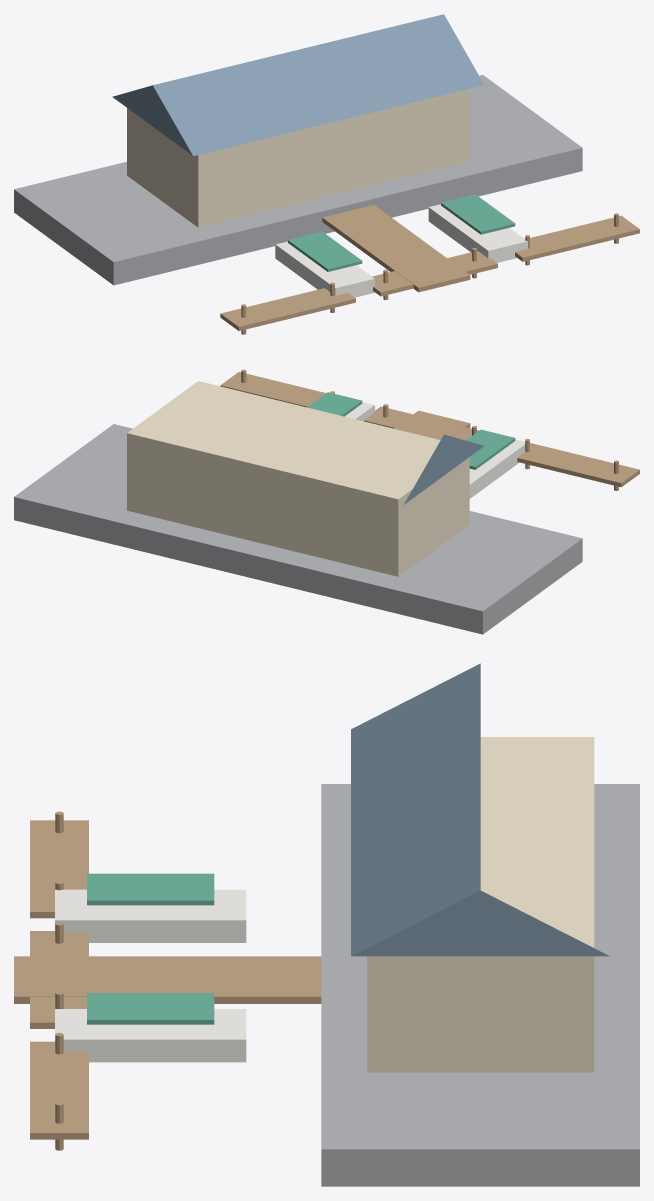
The model's file is lm_117_ben_du_thuyen_va_cau_lac_bo_kayak_ho_tuyen_lam_marina_club.glb.
3 renders of one model, top to bottom at view 1: azimuth 30°, elevation 25°; view 2: azimuth 150°, elevation 25°; view 3: azimuth 270°, elevation 25°, orthographic. The views are drawn at different scales.
Visible parts, largest first — view 1: lm_117_ben_du_thuyen_va_cau_lac_bo_kayak_ho_tuyen_lam_marina; view 2: lm_117_ben_du_thuyen_va_cau_lac_bo_kayak_ho_tuyen_lam_marina; view 3: lm_117_ben_du_thuyen_va_cau_lac_bo_kayak_ho_tuyen_lam_marina.
Boxes of the visible parts, x1=… form: lm_117_ben_du_thuyen_va_cau_lac_bo_kayak_ho_tuyen_lam_marina: x1=14, y1=14, x2=639, y2=334; lm_117_ben_du_thuyen_va_cau_lac_bo_kayak_ho_tuyen_lam_marina: x1=14, y1=369, x2=639, y2=634; lm_117_ben_du_thuyen_va_cau_lac_bo_kayak_ho_tuyen_lam_marina: x1=14, y1=663, x2=639, y2=1186.
Size of the model in its own units: 38 by 11 by 27.5.
